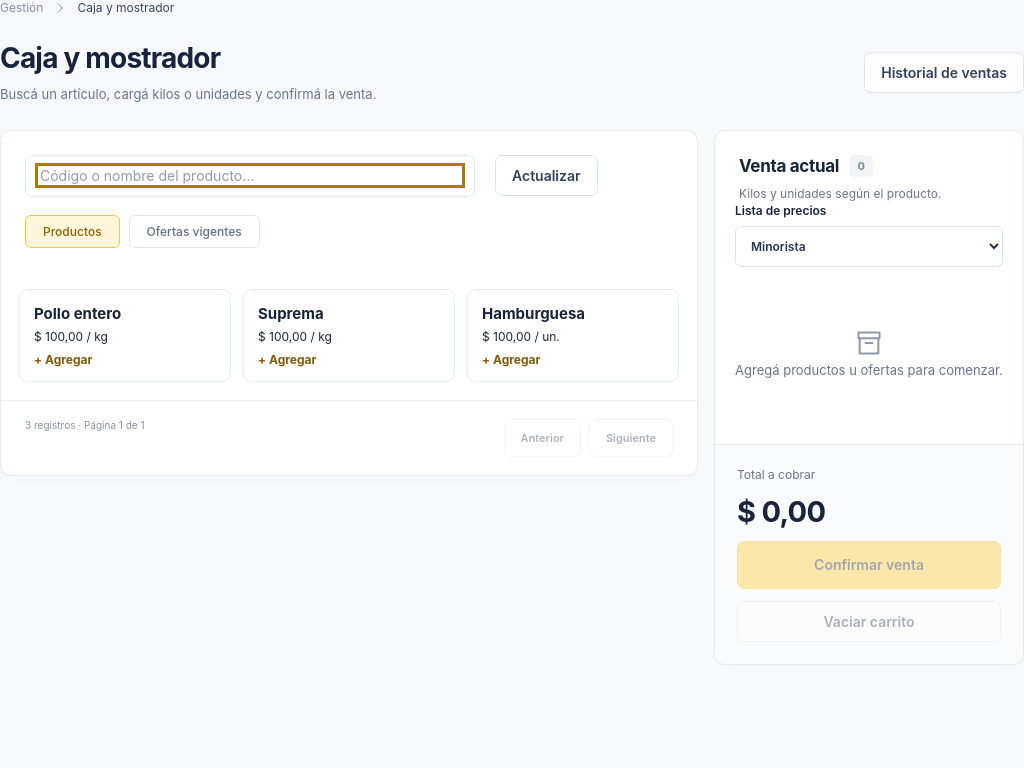
Test: Caja integrada › cotiza kilos y unidades, cambia de lista y confirma una sola venta
Click the button "Pollo entero $ 100,00 / kg + Agregar": (125, 335) 19,289 -> 231,382
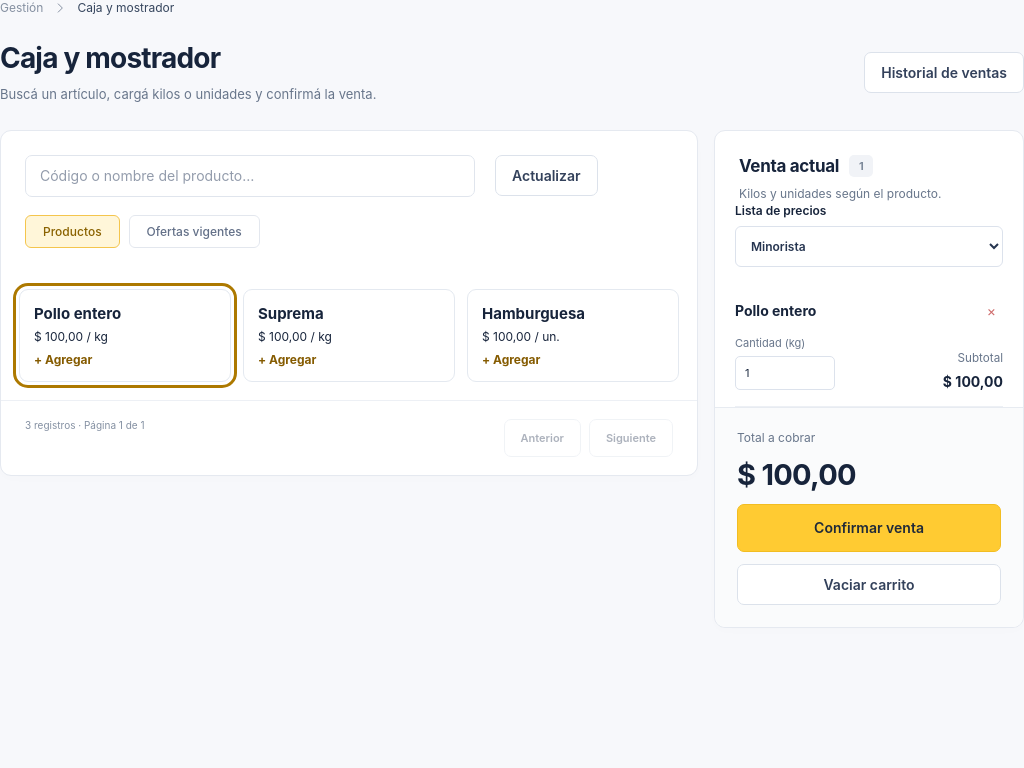
Replace the text in the field named "Cantidad de Pollo entero" with "1,25": (785, 373) 735,356 -> 835,390
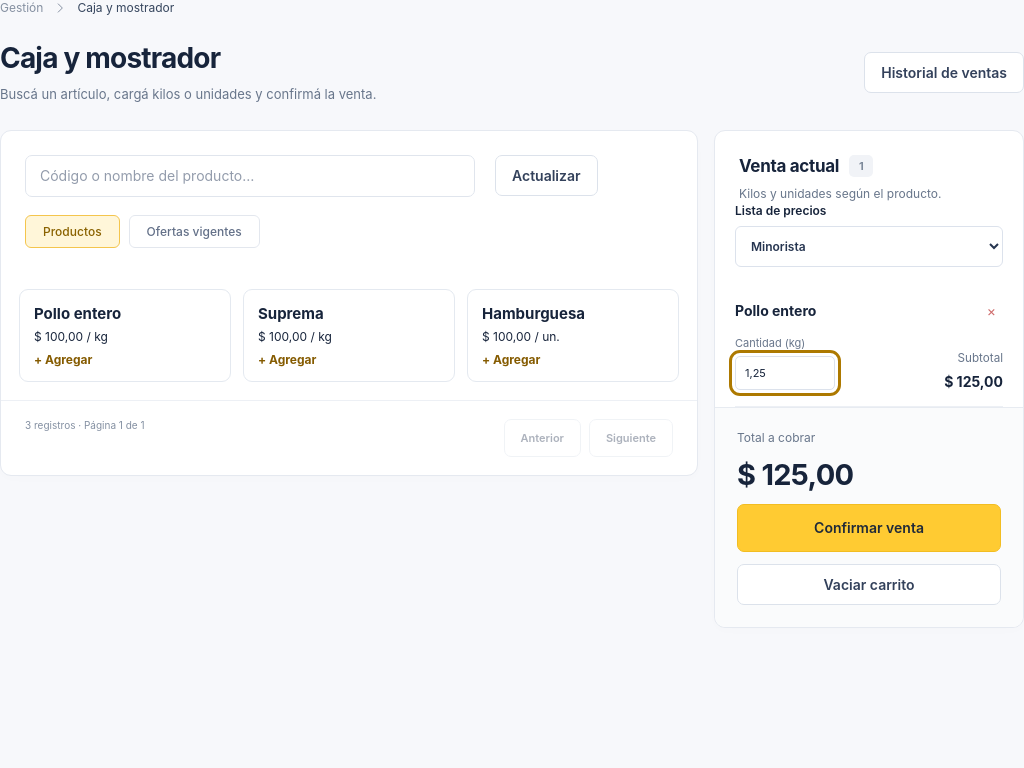
Click the button "Hamburguesa $ 100,00 / un. + Agregar": (573, 335) 467,289 -> 679,382
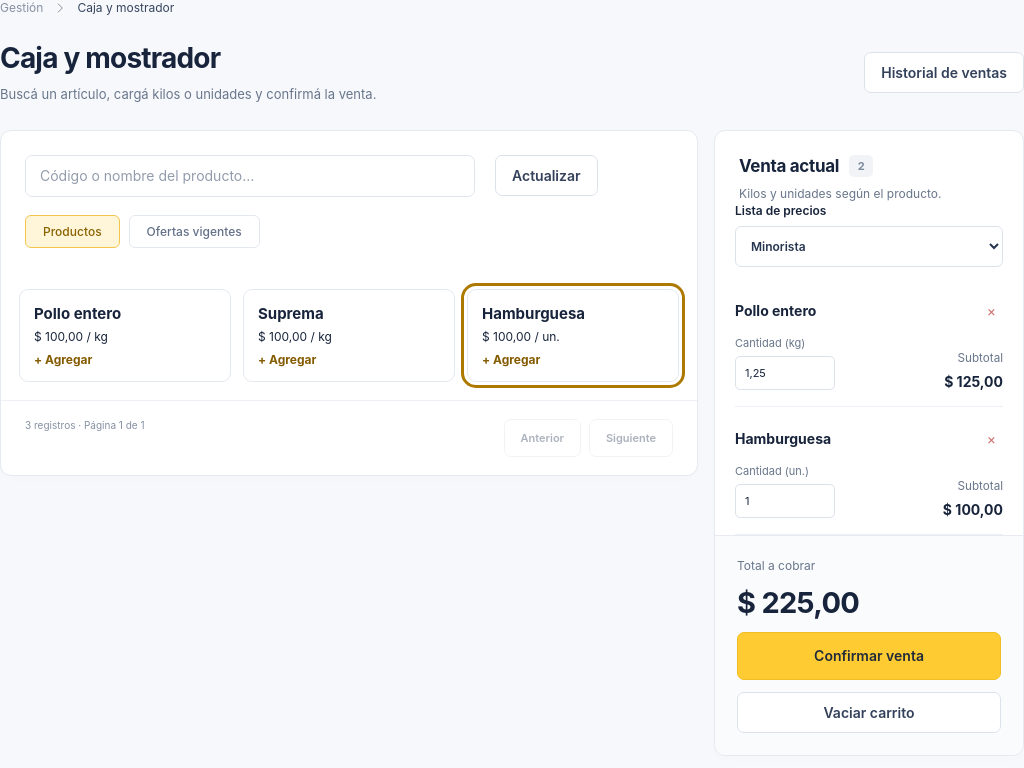
Select "Mayorista" in the dropdown labelled "Lista de precios": (869, 246) 735,226 -> 1003,267
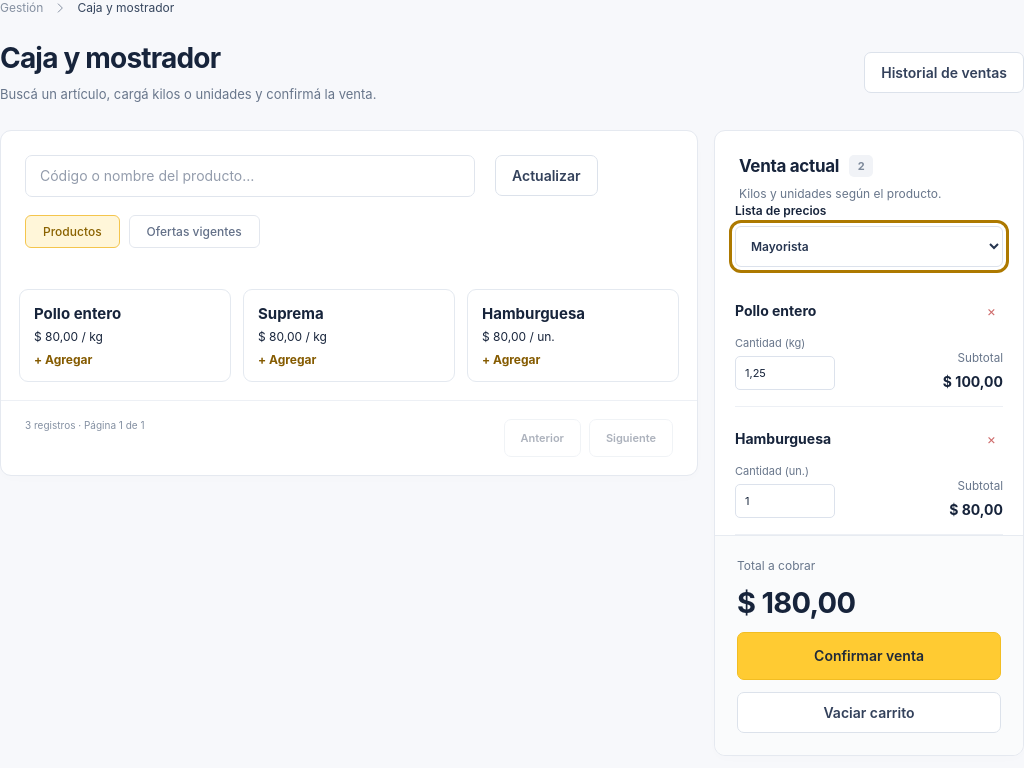
Check: the button "Confirmar venta" is enabled
Click the button "Confirmar venta": (869, 656) 737,632 -> 1001,680
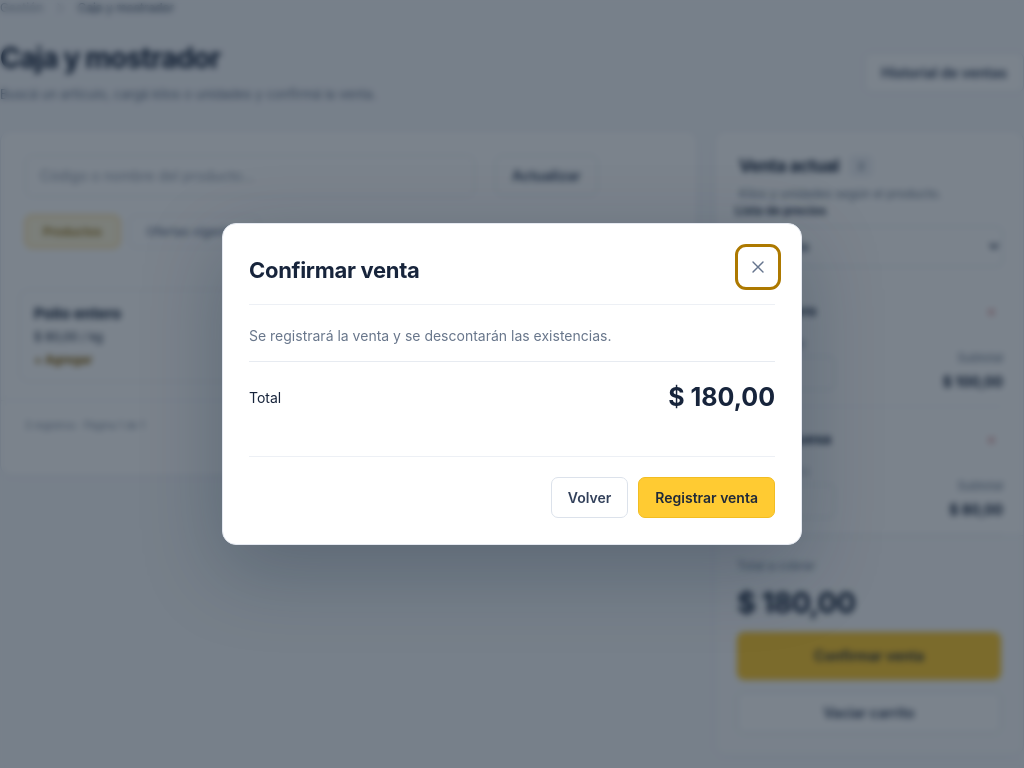
Click the button "Registrar venta": (707, 498) 638,477 -> 775,518
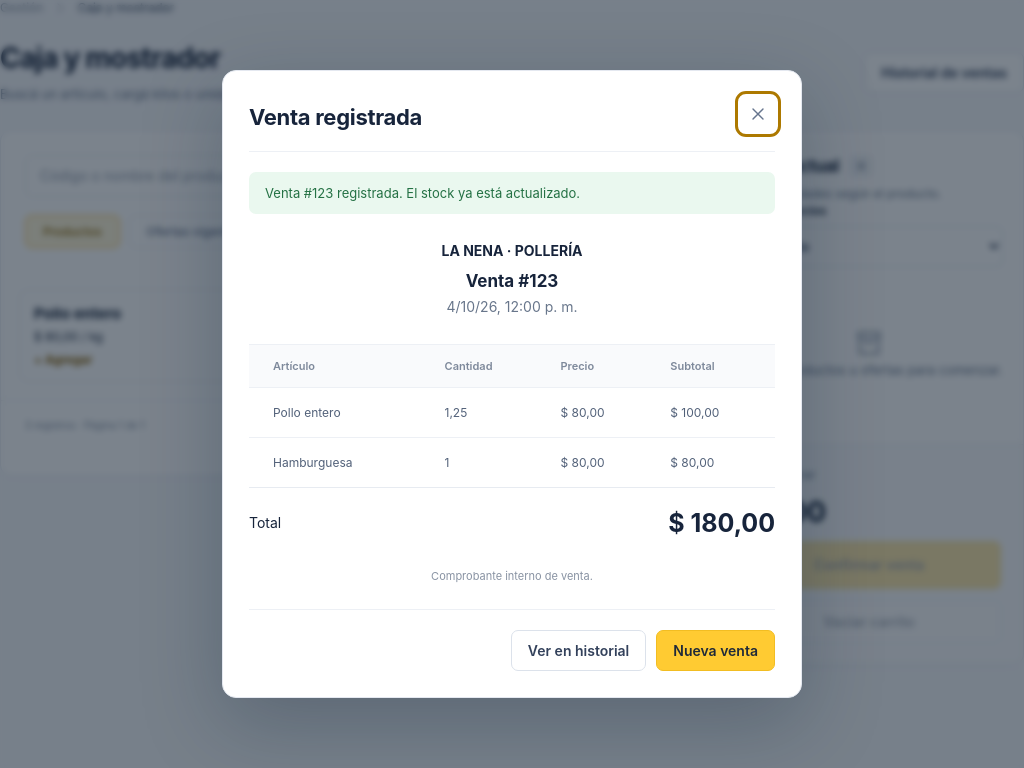
Check: the text "Venta #123 registrada. El stock ya está actualizado." is shown, box 249,172 -> 775,214
